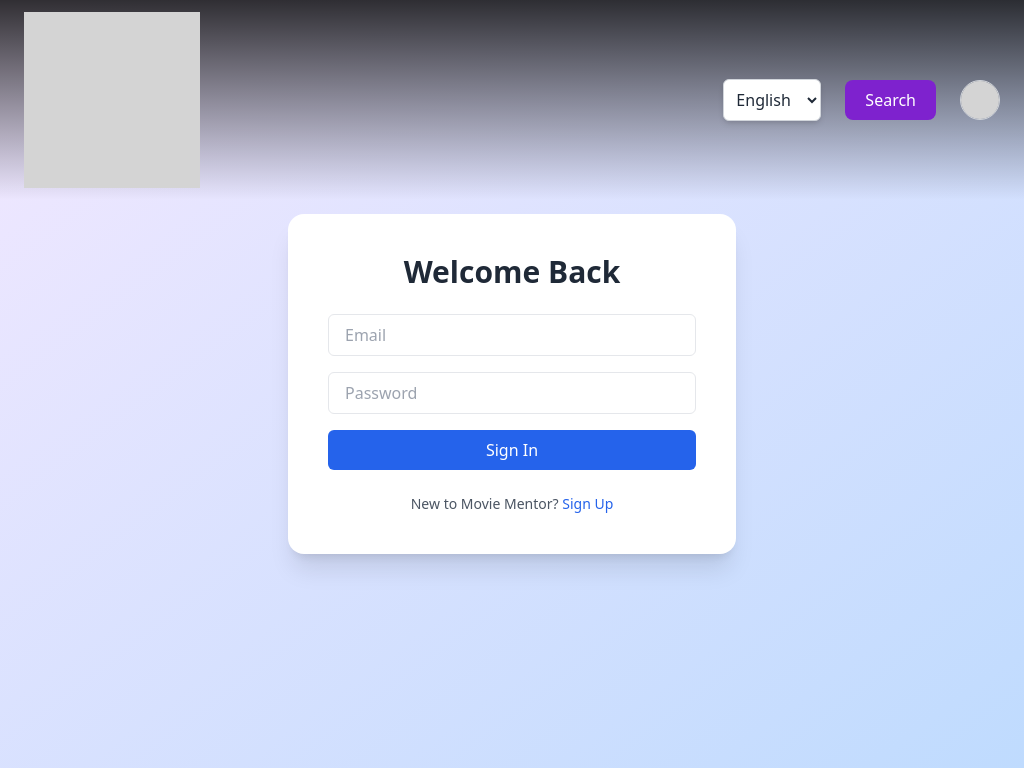
Login Component › Sign In flow › shows error message for invalid email
Type "invalidEmail" into the field with placeholder "Email" at (512, 335), box [328, 314, 696, 356]
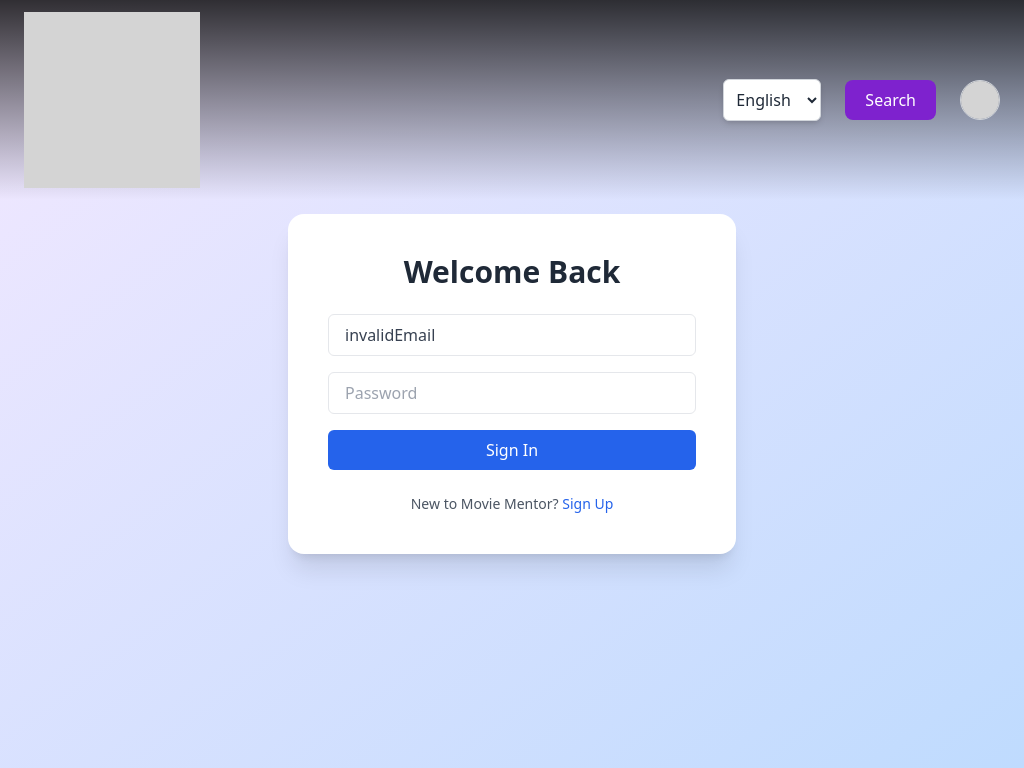
Type "password123" into the password field with placeholder "Password" at (512, 393), box [328, 372, 696, 414]
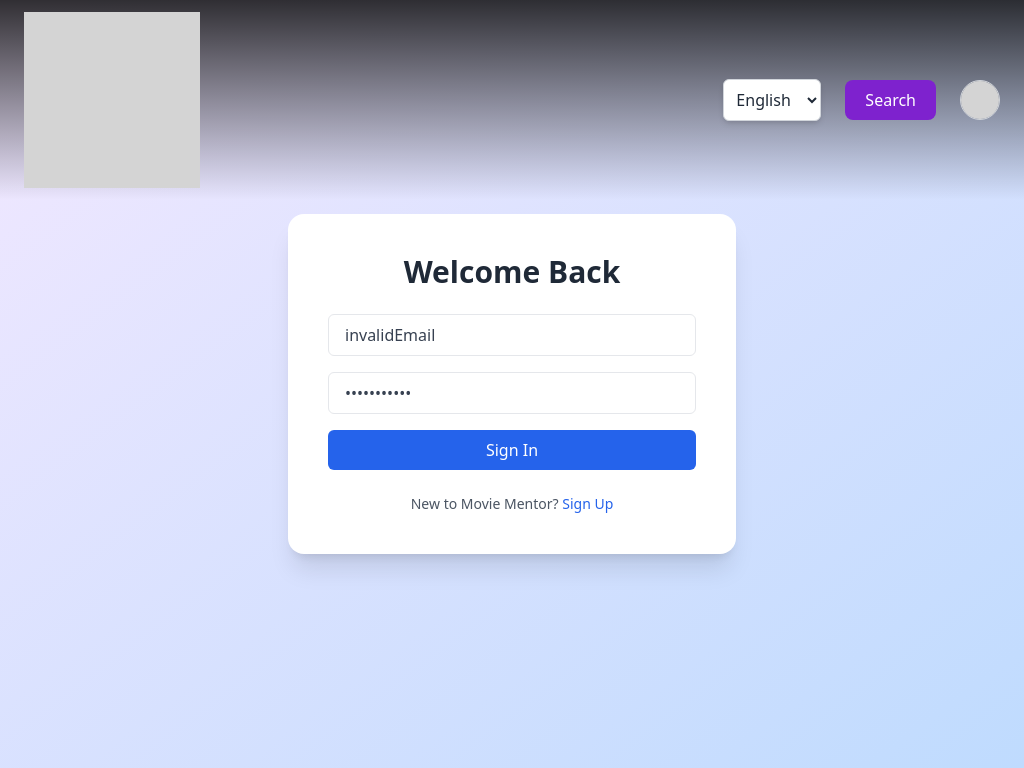
Click the button "Sign In" at (512, 450), box [328, 430, 696, 470]
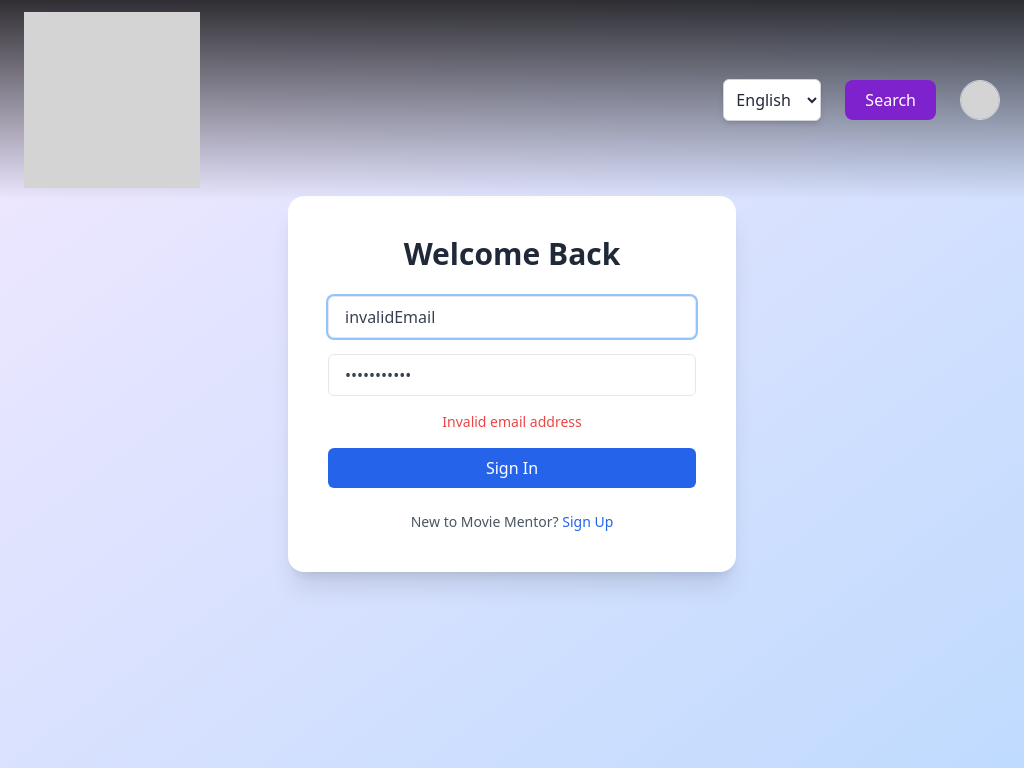
Now the text "Invalid email address" is shown, box [442, 412, 582, 431]
